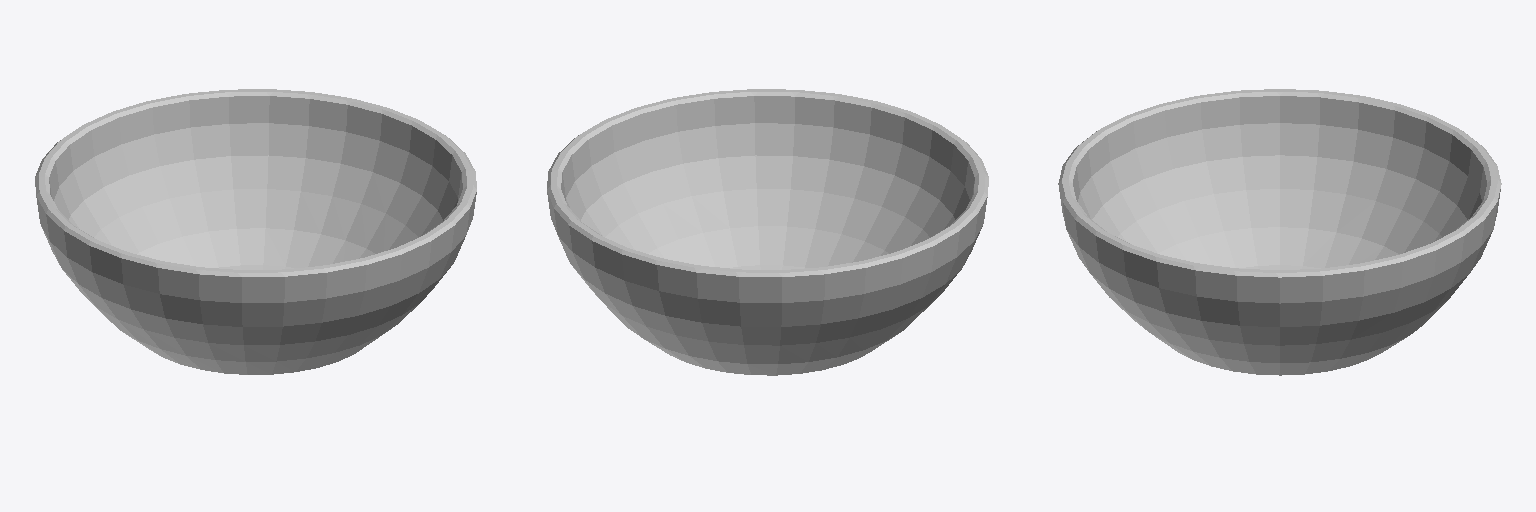
Rendered from bowl.obj.
The picture shows the model from 3 angles: view 1: azimuth 30°, elevation 25°; view 2: azimuth 150°, elevation 25°; view 3: azimuth 270°, elevation 25°; orthographic projection.
Visible parts, largest first — view 1: bowl_Sphere; view 2: bowl_Sphere; view 3: bowl_Sphere.
Boxes of the visible parts, <box> form: bowl_Sphere: <box>35,89,476,374</box>; bowl_Sphere: <box>547,89,988,375</box>; bowl_Sphere: <box>1058,89,1501,375</box>.
Bounding box in the file's own units: 2 × 0.747 × 2.